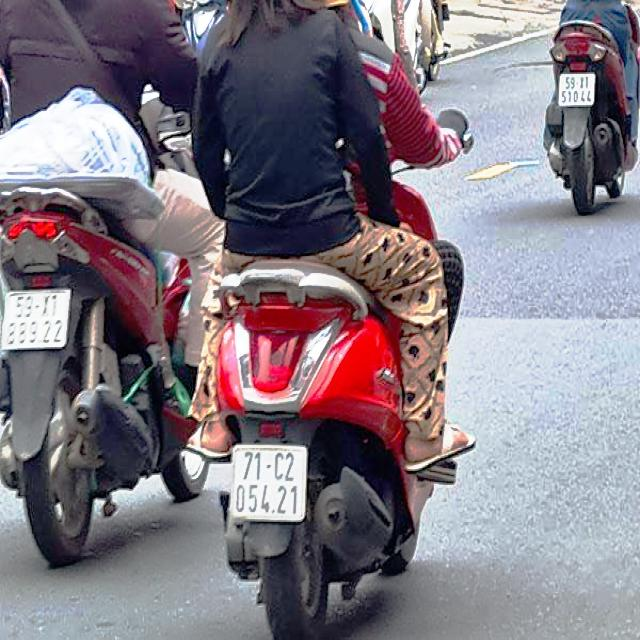license_plate: (230, 448, 308, 523), (4, 290, 72, 349), (559, 75, 595, 109)
